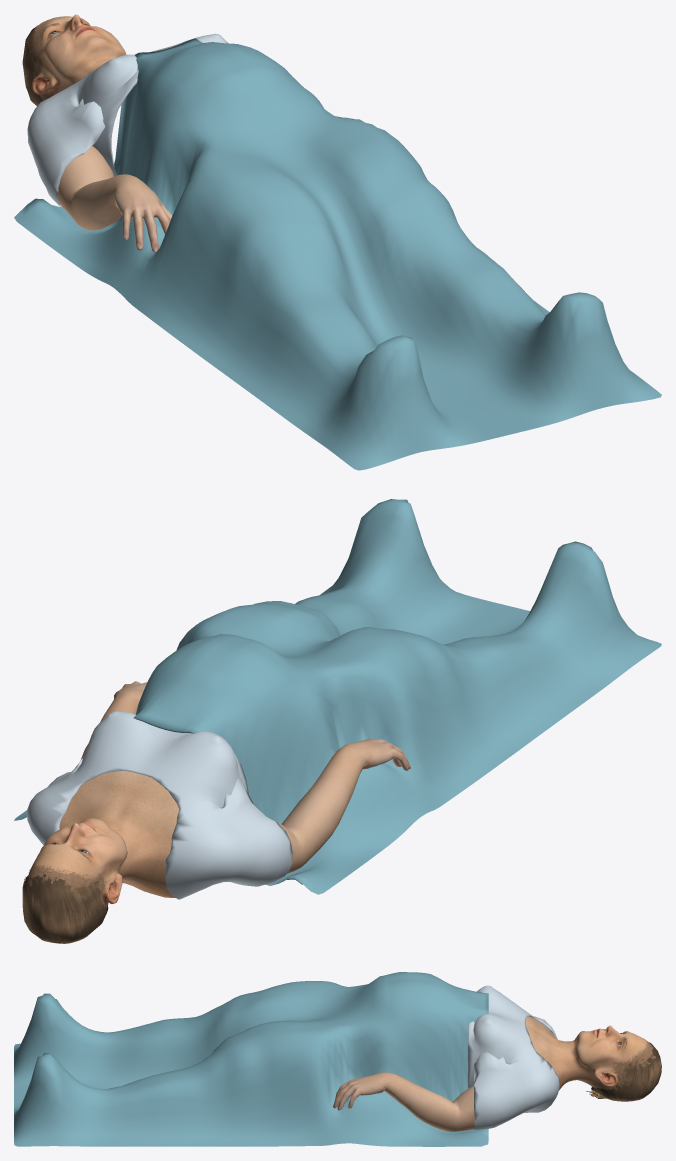
3 views of the same model, one above another, from view 1: azimuth 30°, elevation 25°; view 2: azimuth 150°, elevation 25°; view 3: azimuth 270°, elevation 25° (orthographic). The views are drawn at different scales.
Parts seen in each view (by area): view 1: sheet, gown, arms, body; view 2: sheet, gown, body, arms, hair; view 3: sheet, gown, body, arms, hair.
Part boxes in pixels (x1=…): sheet: x1=14, y1=38, x2=661, y2=470; gown: x1=27, y1=33, x2=228, y2=207; arms: x1=57, y1=146, x2=172, y2=252; body: x1=26, y1=14, x2=126, y2=100; sheet: x1=14, y1=499, x2=661, y2=894; gown: x1=27, y1=711, x2=292, y2=899; body: x1=28, y1=770, x2=179, y2=909; arms: x1=80, y1=681, x2=410, y2=873; hair: x1=22, y1=870, x2=108, y2=943; sheet: x1=14, y1=972, x2=488, y2=1146; gown: x1=467, y1=985, x2=559, y2=1129; body: x1=525, y1=1016, x2=656, y2=1101; arms: x1=333, y1=1072, x2=474, y2=1131; hair: x1=586, y1=1042, x2=661, y2=1101.
Bounding box in the file's own units: 0.6378 × 0.3395 × 1.7.
8 materials, 6 textured.
